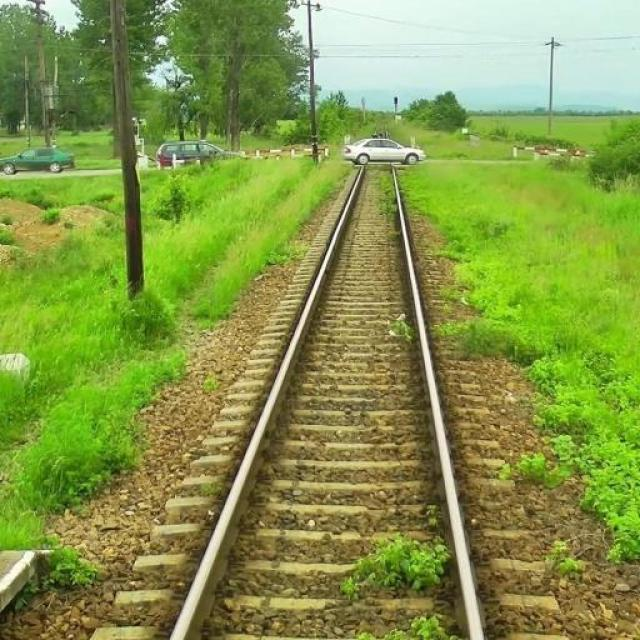vehicle: (343, 132, 430, 172)
